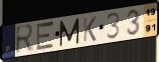3: (126, 8, 142, 37), (105, 11, 121, 40)
E: (35, 20, 55, 52)
K: (82, 15, 98, 44)
M: (59, 17, 81, 48)
R: (15, 23, 36, 57)
